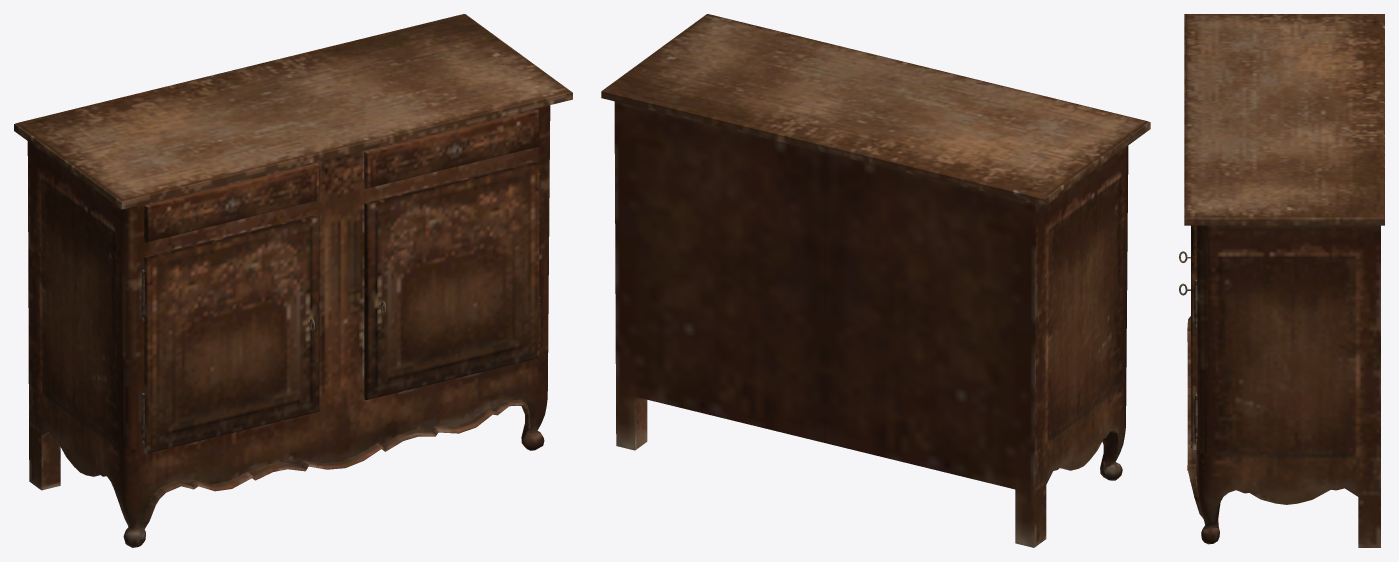
Rendered from 109_LowChest.fbx.
3 views of the same model, side by side, from view 1: azimuth 30°, elevation 25°; view 2: azimuth 150°, elevation 25°; view 3: azimuth 270°, elevation 25° (orthographic). The views are drawn at different scales.
Parts seen in each view (by area): view 1: LOD_1_Group_0_Sub_1__sm30_109_Lowchest01A_A_Mat; view 2: LOD_1_Group_0_Sub_1__sm30_109_Lowchest01A_A_Mat; view 3: LOD_1_Group_0_Sub_1__sm30_109_Lowchest01A_A_Mat.
Boxes of the visible parts, x1,y1,x2,y2 form: LOD_1_Group_0_Sub_1__sm30_109_Lowchest01A_A_Mat: (14, 14, 572, 547); LOD_1_Group_0_Sub_1__sm30_109_Lowchest01A_A_Mat: (601, 14, 1150, 547); LOD_1_Group_0_Sub_1__sm30_109_Lowchest01A_A_Mat: (1179, 14, 1384, 547).
Bounding box in the file's own units: 1.44 × 1.1 × 0.6101.
